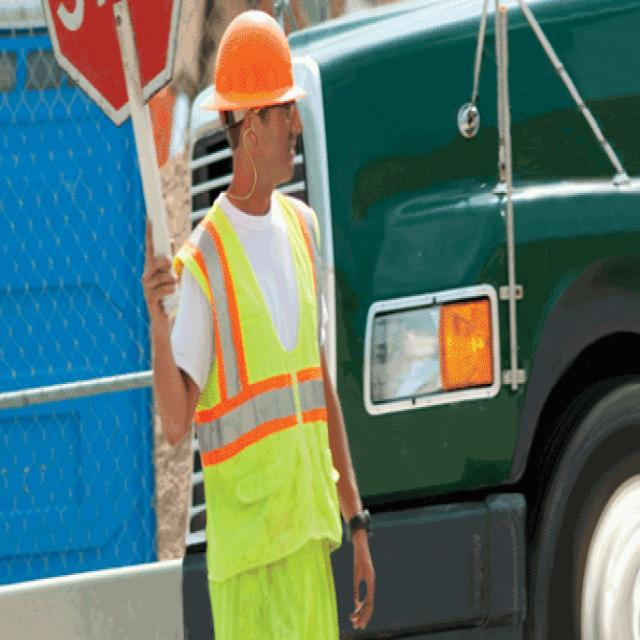helmet: (199, 9, 309, 112)
vest: (174, 191, 346, 577)
